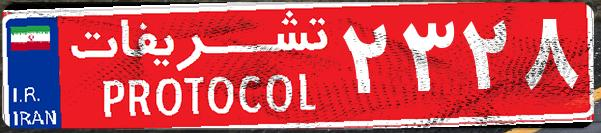2: (340, 20, 400, 115), (460, 20, 520, 115)
3: (400, 20, 460, 115)
8: (520, 20, 580, 115)
تشریفات: (60, 8, 340, 125)
